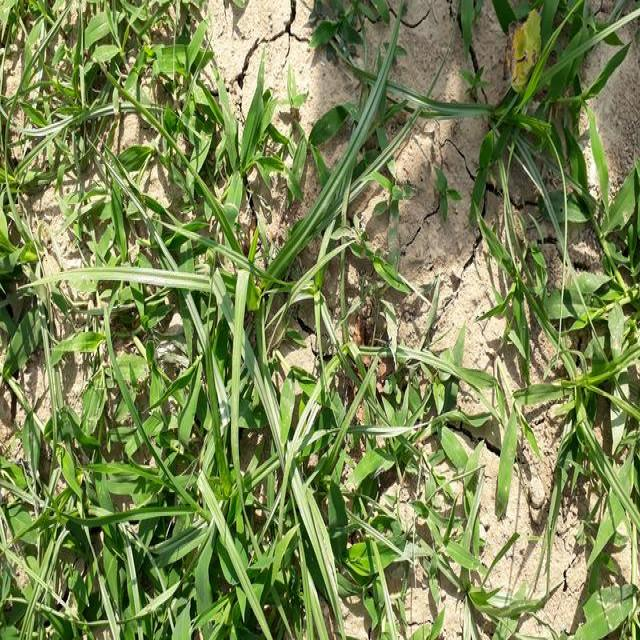weed: (49, 327, 324, 640), (500, 241, 640, 529), (39, 28, 213, 210), (418, 64, 615, 184)
